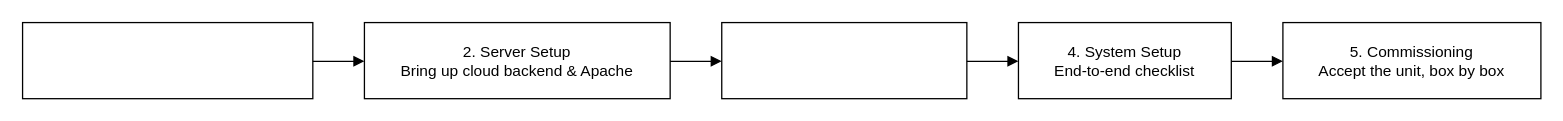
Image size: 1563x121. Some labels were removed from this diagram. The shapes that lost their labels are listed below. From the top down, each one's centre as x and y in pixels, then its label:
At point 167,60: "1. Prerequisites Check hardware & firewall ports".
At point 843,60: "3. Unit Setup Build robot image & enrol".
